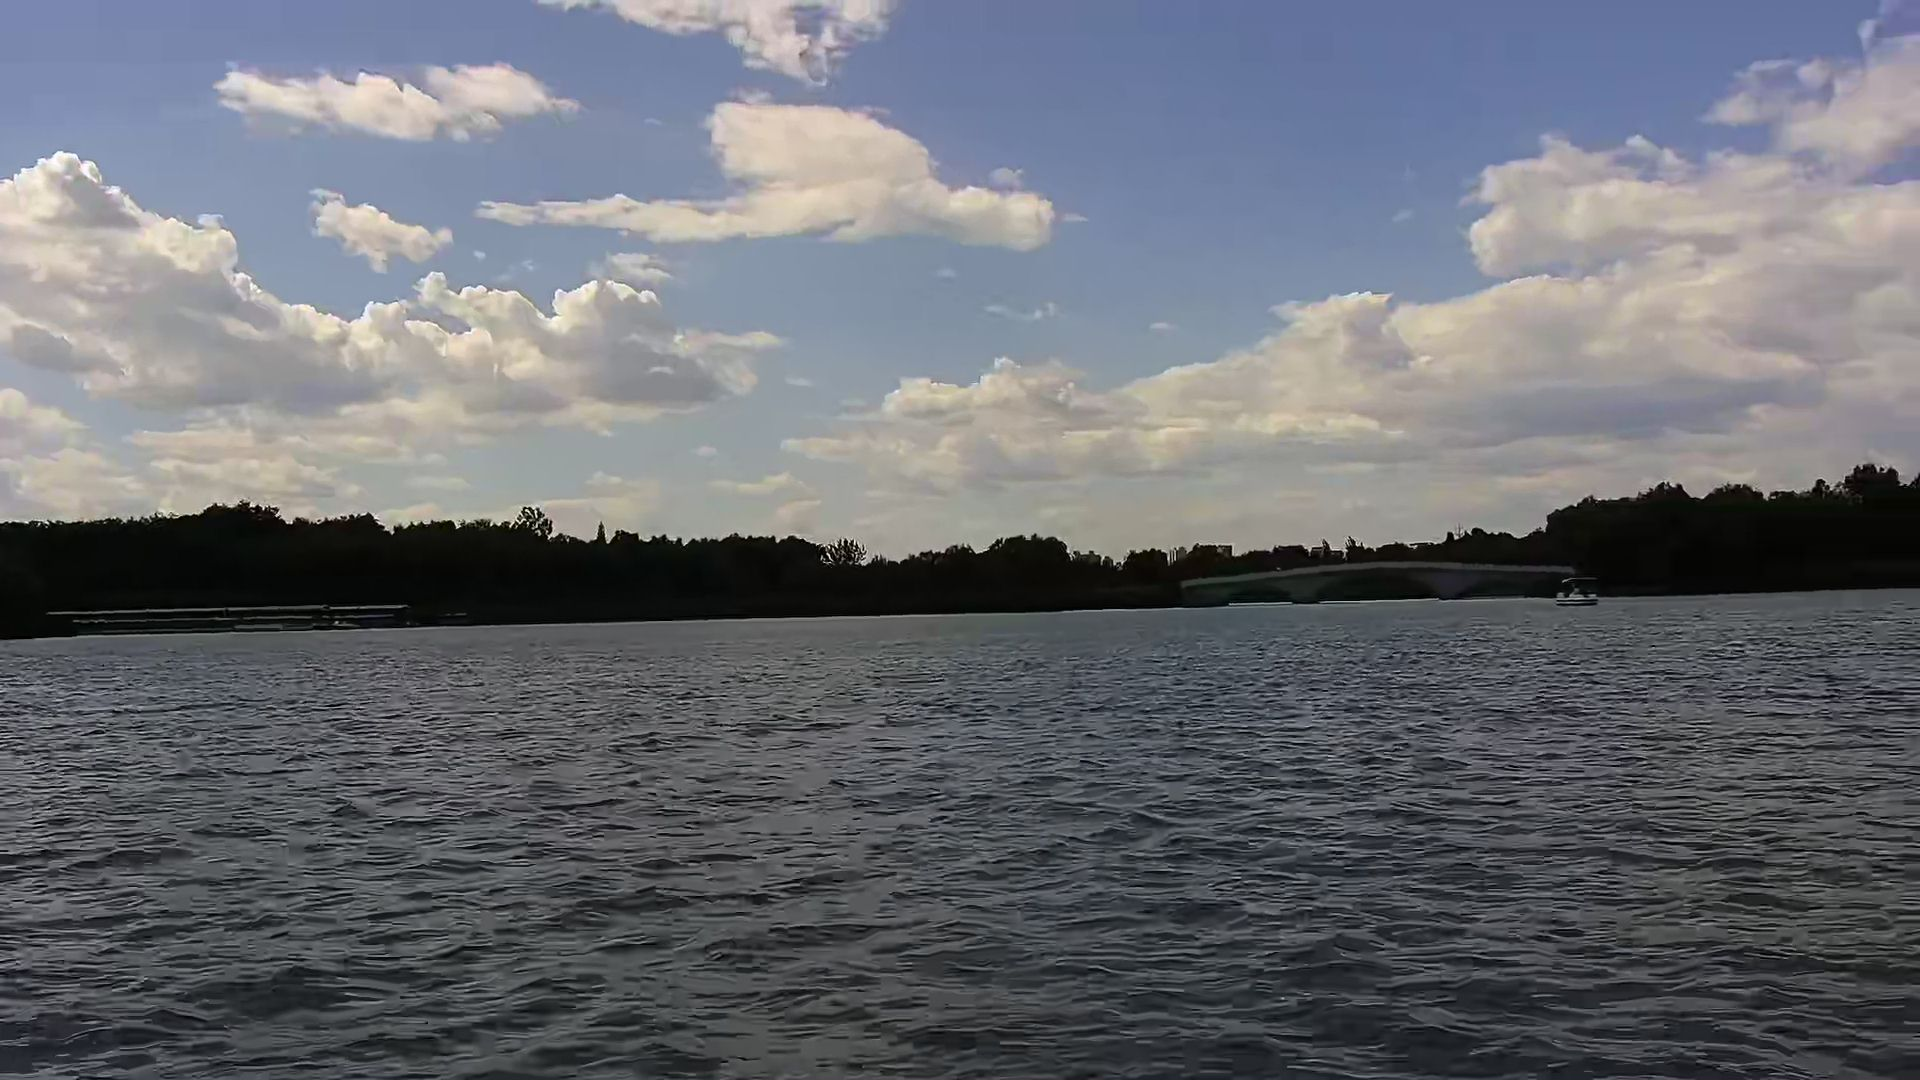boat: (1555, 578, 1605, 608)
bridge: (1180, 559, 1571, 599), (40, 599, 406, 630)
